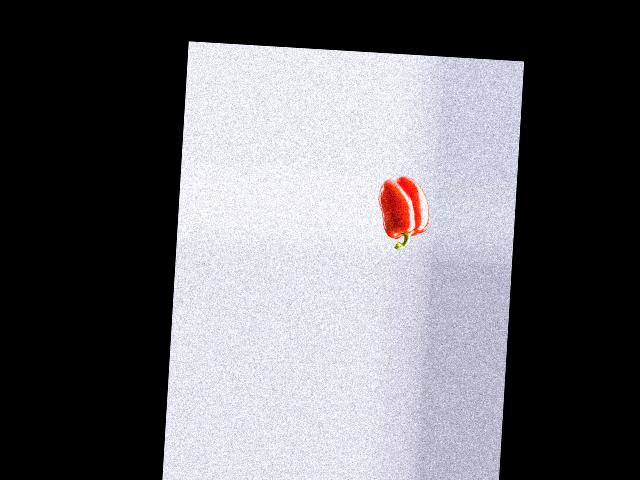bell_pepper: (374, 176, 433, 252)
